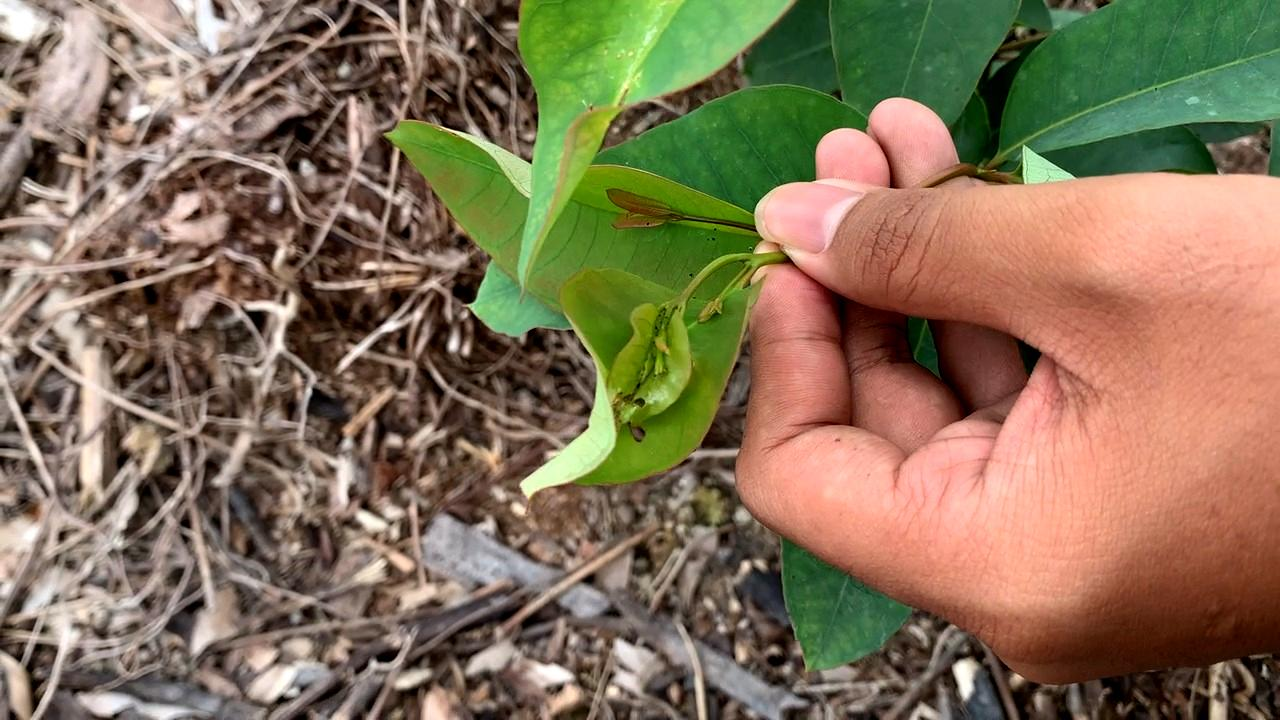Leaf Roller - Leaf: (612, 306, 696, 420)
